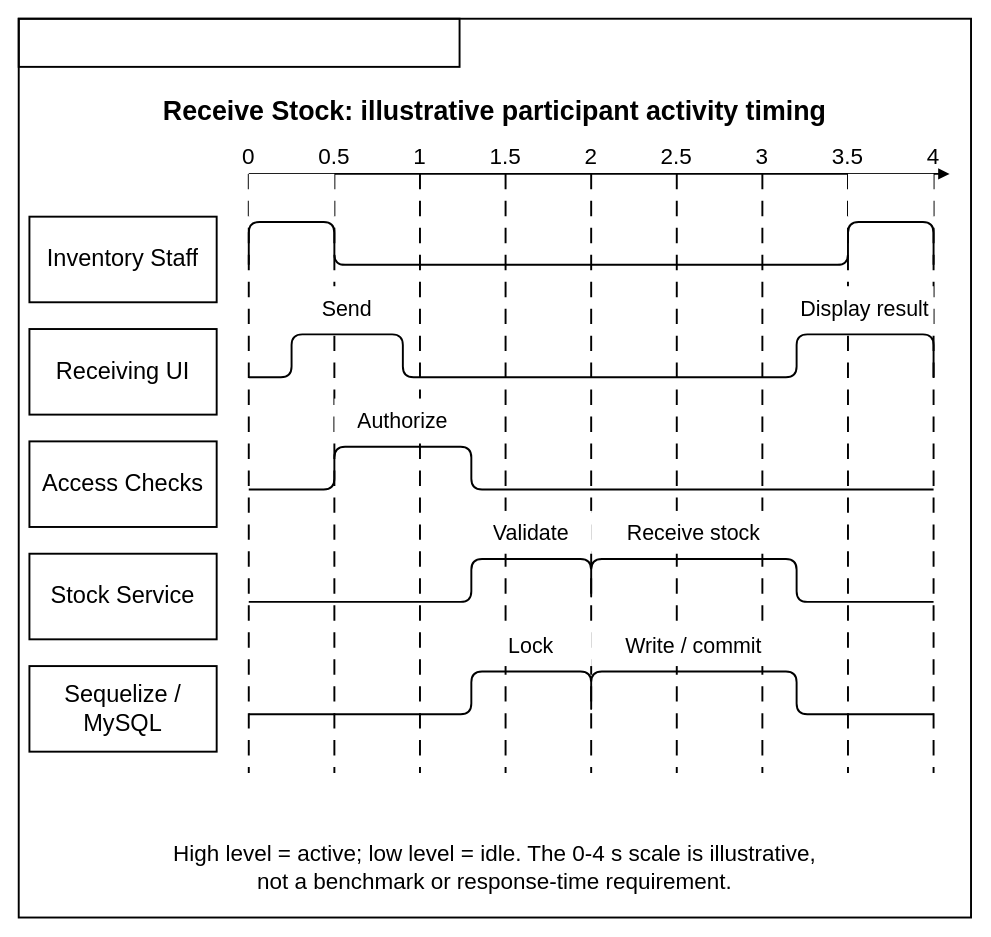
The diagram is 991 pixels wide and 937 high, and some of its shapes have lost their labels. Here are the shapes that lost their labels. From the top down, the centre of each, then its label:
point 238,42: UML Inventory Timing Diagram
point 291,194: Submit
point 890,194: View
